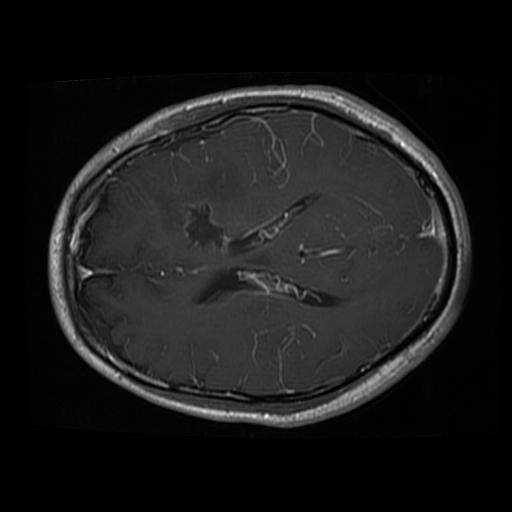glioma: (152, 149, 247, 253)
